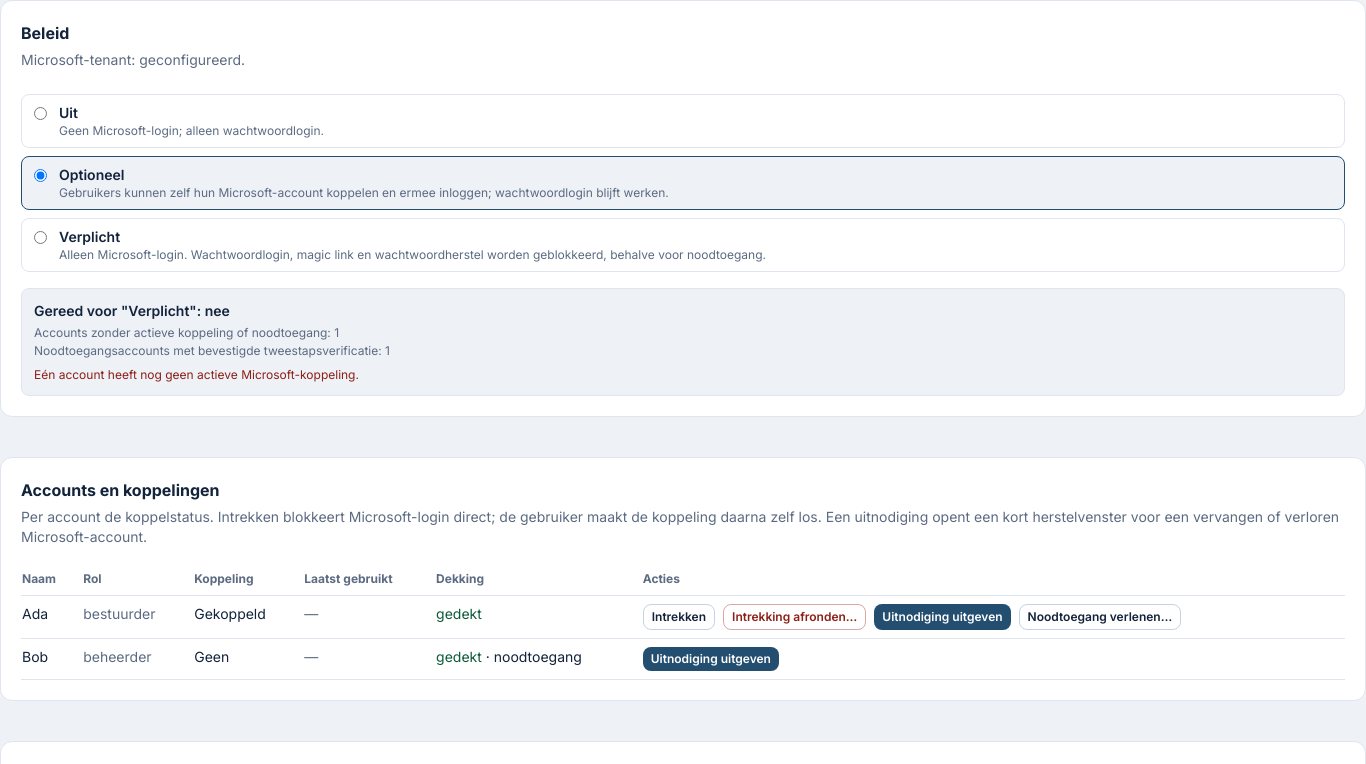
LoginBeleidBeheer › verplicht: bij rode preflight geen PATCH, maar de weigeringstekst; bij groene preflight pas na bevestiging
Click the radio button labelled "Verplicht" at (40, 237), box [34,231,47,244]
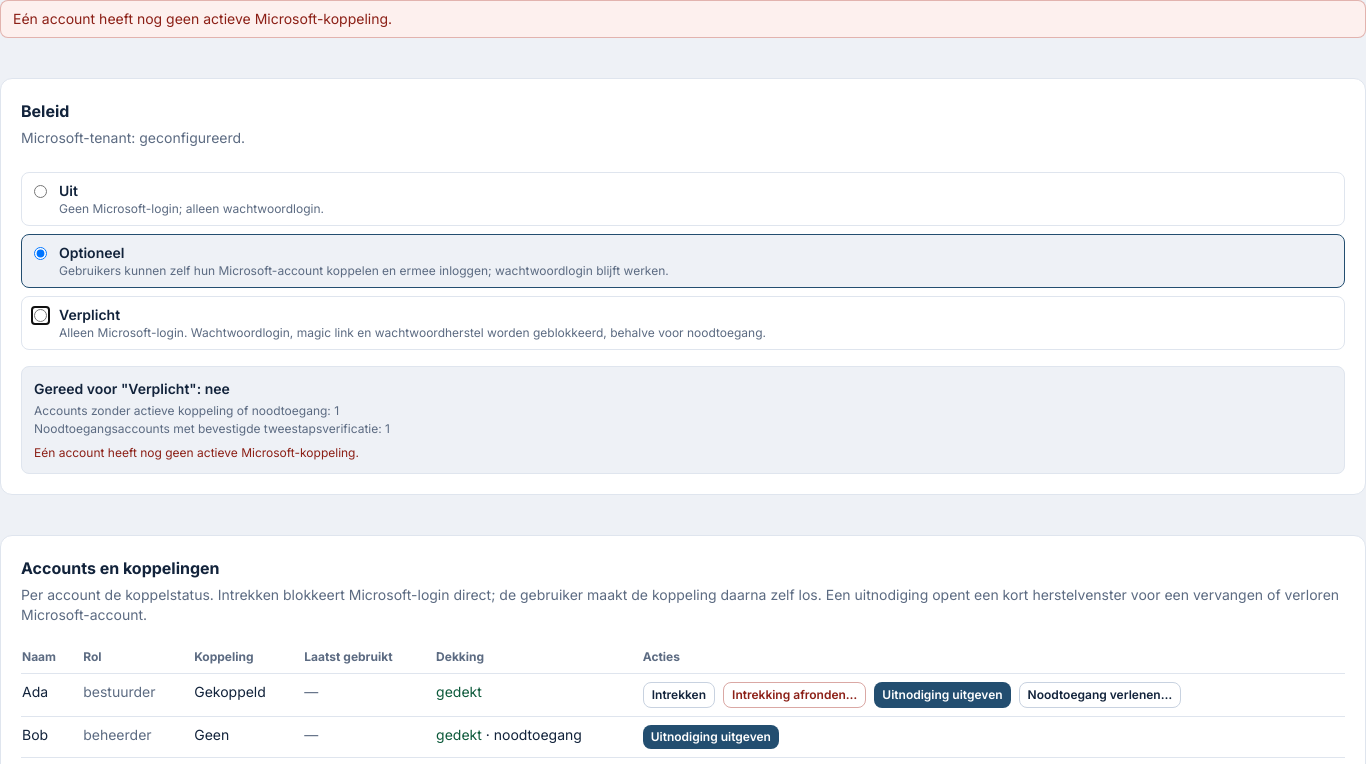
Result: the message reads "Eén account heeft nog geen actieve Microsoft-koppeling." at [13,10,392,27]
